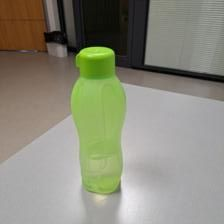bottle: (68, 43, 130, 195)
